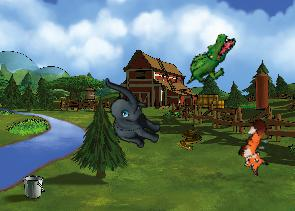crocodile: (184, 26, 237, 94)
elephant: (88, 77, 172, 152)
fox: (230, 116, 285, 178)
